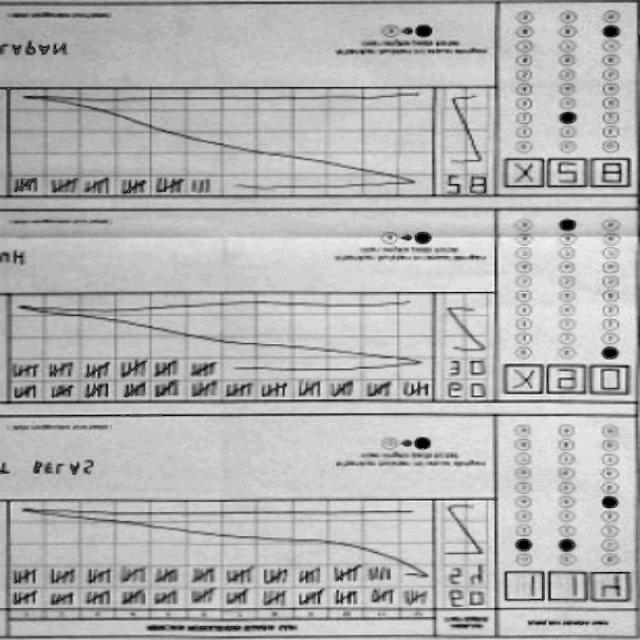Suara: (498, 571, 628, 607), (496, 362, 627, 396), (502, 161, 630, 193)
